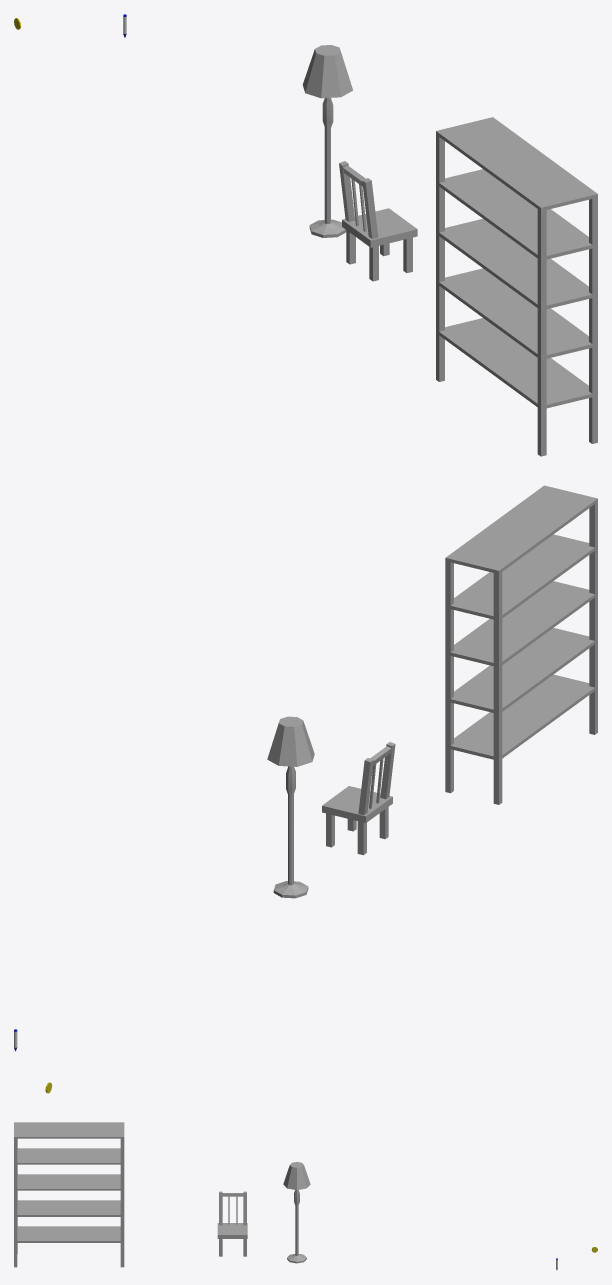
File: EnvironmentFBX.fbx
3 renders of one model, top to bottom at view 1: azimuth 30°, elevation 25°; view 2: azimuth 150°, elevation 25°; view 3: azimuth 270°, elevation 25°, orthographic. The views are drawn at different scales.
Parts seen in each view (by area): view 1: Shelf_Suface01, Shelf01, Chair01, Lamp_Light, Lamp_Stand01; view 2: Shelf_Suface01, Shelf01, Chair01, Lamp_Light, Lamp_Stand01; view 3: Shelf_Suface01, Shelf01, Chair01, Lamp_Light, Lamp_Stand01.
Part boxes in pixels (bbox=[...]): Shelf_Suface01: bbox=[436, 117, 597, 409]; Shelf01: bbox=[436, 117, 597, 456]; Chair01: bbox=[339, 161, 417, 281]; Lamp_Light: bbox=[302, 45, 352, 98]; Lamp_Stand01: bbox=[309, 98, 346, 237]; Shelf_Suface01: bbox=[445, 486, 597, 760]; Shelf01: bbox=[445, 485, 597, 804]; Chair01: bbox=[322, 742, 395, 855]; Lamp_Light: bbox=[267, 716, 314, 766]; Lamp_Stand01: bbox=[273, 766, 308, 898]; Shelf_Suface01: bbox=[14, 1122, 124, 1242]; Shelf01: bbox=[14, 1122, 124, 1267]; Chair01: bbox=[217, 1191, 247, 1256]; Lamp_Light: bbox=[283, 1162, 310, 1190]; Lamp_Stand01: bbox=[287, 1190, 306, 1263].
Bounding box in the file's own units: 7.15 × 16.54 × 67.06.
